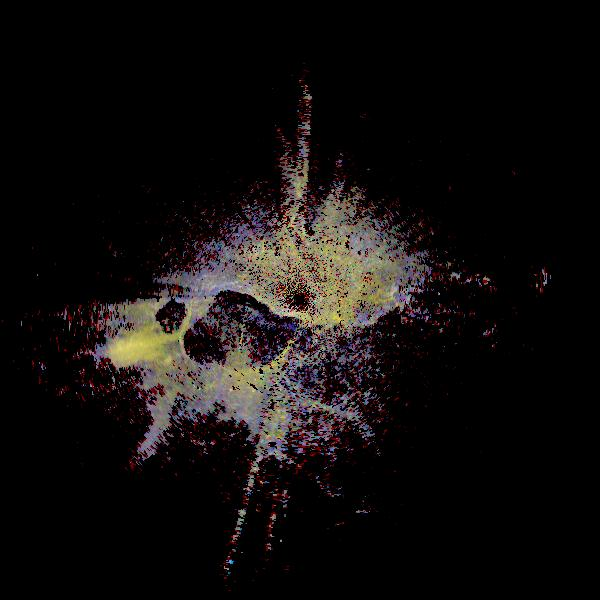roost: (35, 321, 197, 483)
